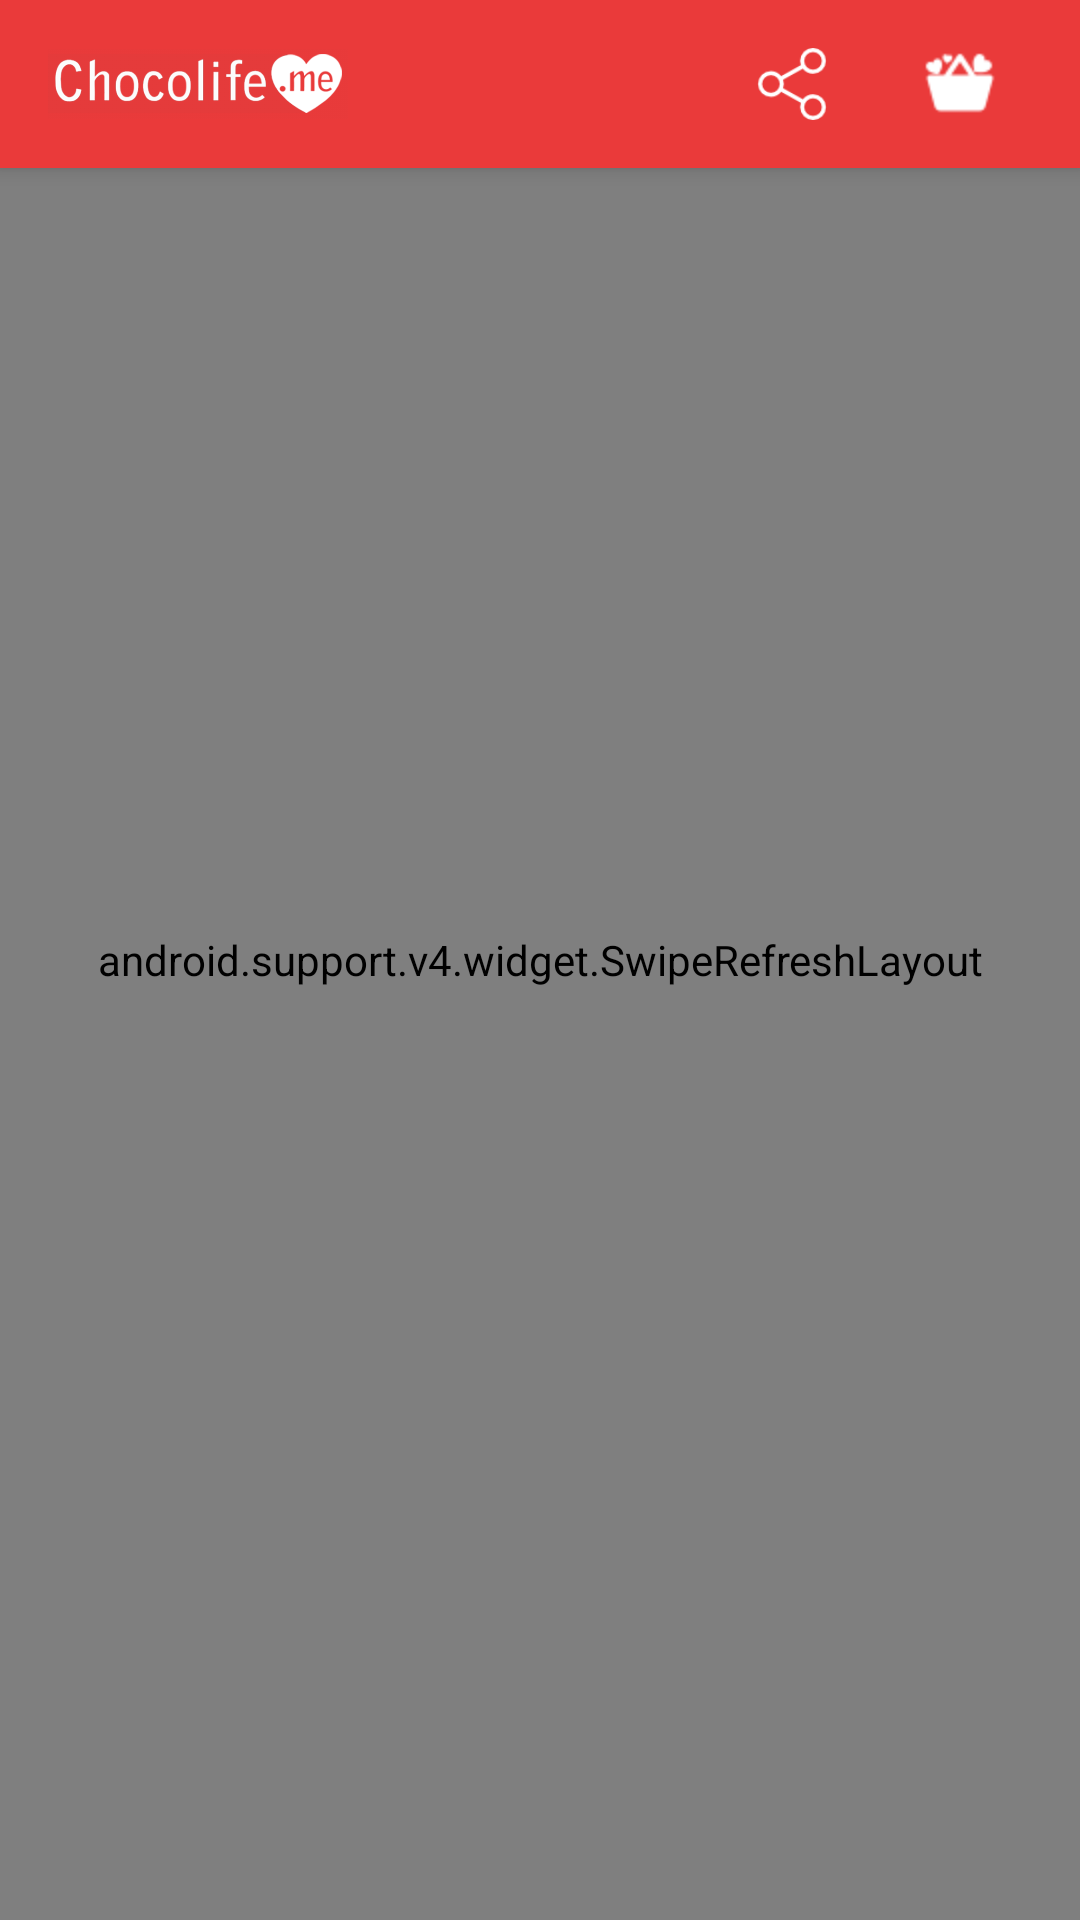

Icons on this 1080x1920 Android screen, each with its box as (x1, y1, x2, y2):
ab cart full: (925, 53, 994, 113)
share: (758, 48, 826, 120)
